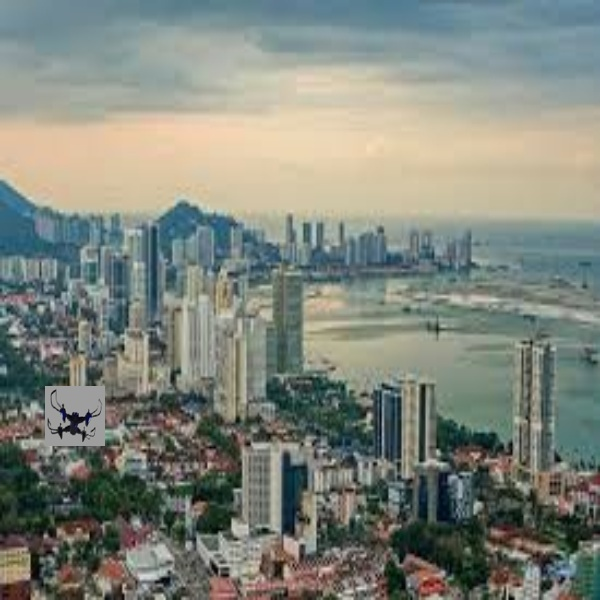drone: (40, 390, 110, 449)
